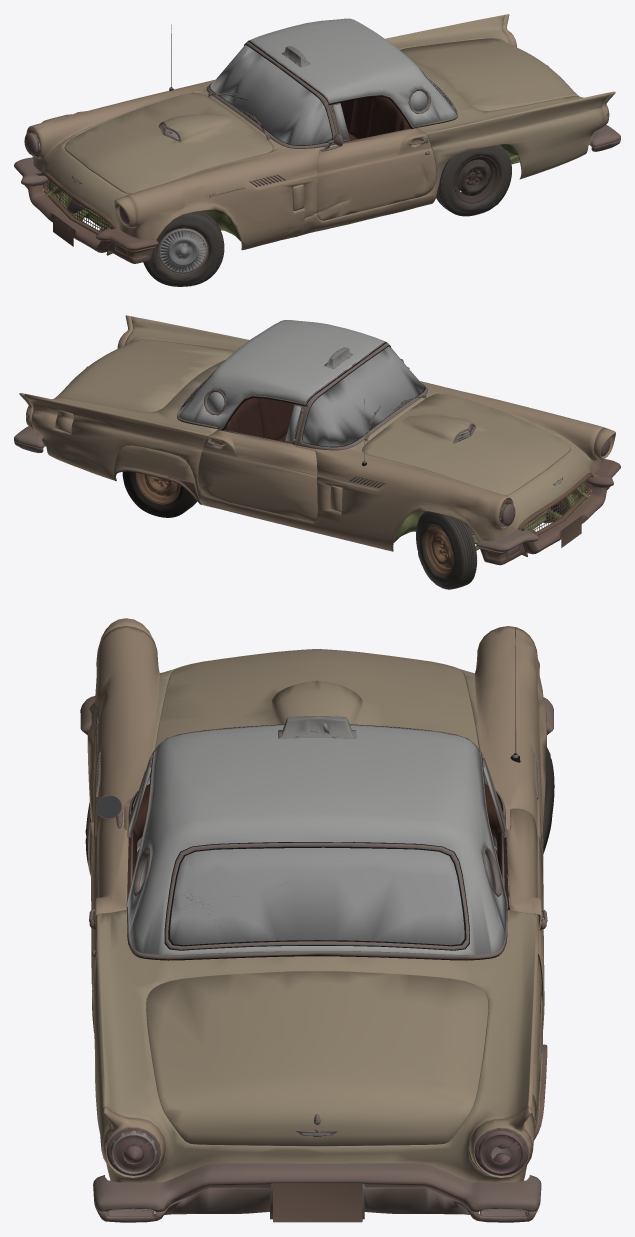
Rendered from Ford_thunderbird.fbx.
3 views of the same model, one above another, from view 1: azimuth 30°, elevation 25°; view 2: azimuth 150°, elevation 25°; view 3: azimuth 270°, elevation 25° (orthographic). The views are drawn at different scales.
Parts seen in each view (by area): view 1: Kuzov_1001, Kuzov_1002, Hardtop, Glass_1001, wheels_mesh2_Material__1112_1001_2, wheels_mesh2_Material__1112_1001, Chromium_parts_1003, Fabric_Base_color_1001, Chromium2_1001_1, chromium3_1001, wheels_mesh_Material__1079_1001, RustyPaintedMetal02_2K_ (+8 smaller); view 2: Kuzov_1002, Kuzov_1001, Hardtop, Glass_1001, Chromium_parts_1003, wheels_mesh2_Material__1112_1001_3, Fabric_Base_color_1001, Chromium2_1001_1, Chromium_parts_1002, wheels_mesh2_Material__1111_1001, Exterior_details_1, RustyPaintedMetal02_2K_ (+8 smaller); view 3: Kuzov_1001, Hardtop, Kuzov_1002, Glass_1002, Chromium_parts_1002, Chromium2_1001_1, Exterior_details_1, Rubber_parts_1001, Headlights_glass_1001, Fabric_Base_color_1001, Chromium2_1001, Hardtop_1 (+1 smaller).
Boxes of the visible parts, <box> form: Kuzov_1001: <box>41,16,610,227</box>; Kuzov_1002: <box>26,14,615,250</box>; Hardtop: <box>250,18,456,126</box>; Glass_1001: <box>210,45,332,145</box>; wheels_mesh2_Material__1112_1001_2: <box>143,211,224,286</box>; wheels_mesh2_Material__1112_1001: <box>436,145,511,216</box>; Chromium_parts_1003: <box>24,184,158,263</box>; Fabric_Base_color_1001: <box>287,96,412,223</box>; Chromium2_1001_1: <box>207,40,548,148</box>; chromium3_1001: <box>158,228,207,273</box>; wheels_mesh_Material__1079_1001: <box>454,155,499,203</box>; RustyPaintedMetal02_2K_: <box>45,144,519,255</box>; Kuzov_1002: <box>19,315,615,551</box>; Kuzov_1001: <box>52,316,593,528</box>; Hardtop: <box>178,320,384,428</box>; Glass_1001: <box>302,346,424,446</box>; Chromium_parts_1003: <box>113,459,620,565</box>; wheels_mesh2_Material__1112_1001_3: <box>416,511,477,589</box>; Fabric_Base_color_1001: <box>221,397,347,445</box>; Chromium2_1001_1: <box>86,341,427,450</box>; Chromium_parts_1002: <box>14,426,538,551</box>; wheels_mesh2_Material__1111_1001: <box>122,471,196,517</box>; Exterior_details_1: <box>499,480,587,547</box>; RustyPaintedMetal02_2K_: <box>177,481,589,556</box>; Kuzov_1001: <box>92,649,535,1182</box>; Hardtop: <box>127,724,507,955</box>; Kuzov_1002: <box>87,618,546,1182</box>; Glass_1002: <box>129,762,505,945</box>; Chromium_parts_1002: <box>93,697,553,1222</box>; Chromium2_1001_1: <box>126,724,507,1124</box>; Exterior_details_1: <box>273,1183,362,1222</box>; Rubber_parts_1001: <box>94,724,542,960</box>; Headlights_glass_1001: <box>107,1128,528,1175</box>; Fabric_Base_color_1001: <box>127,784,542,999</box>; Chromium2_1001: <box>89,628,547,956</box>; Hardtop_1: <box>278,716,356,738</box>.
Size of the model in its own units: 459 by 145 by 185.
